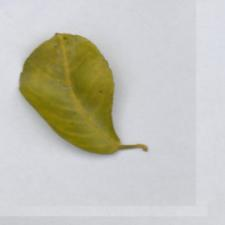Greening: (16, 28, 141, 173)
